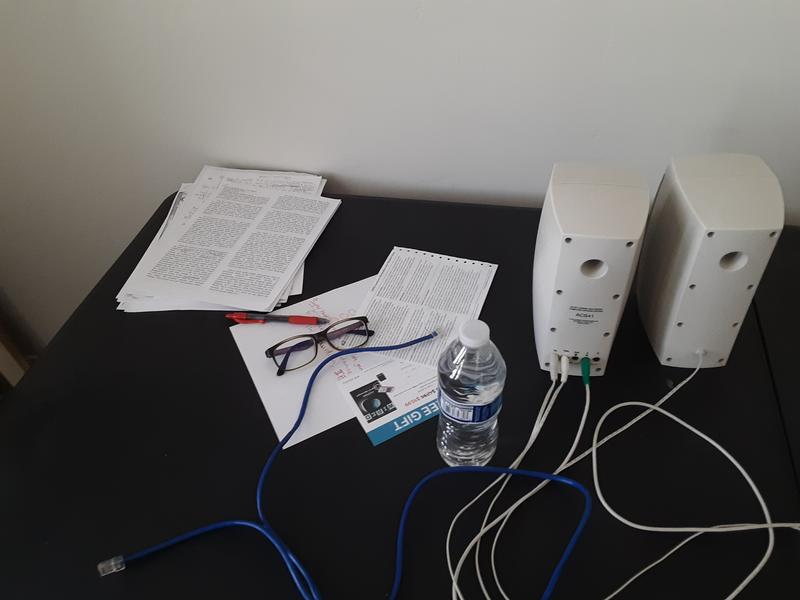glasses: (263, 316, 377, 378)
